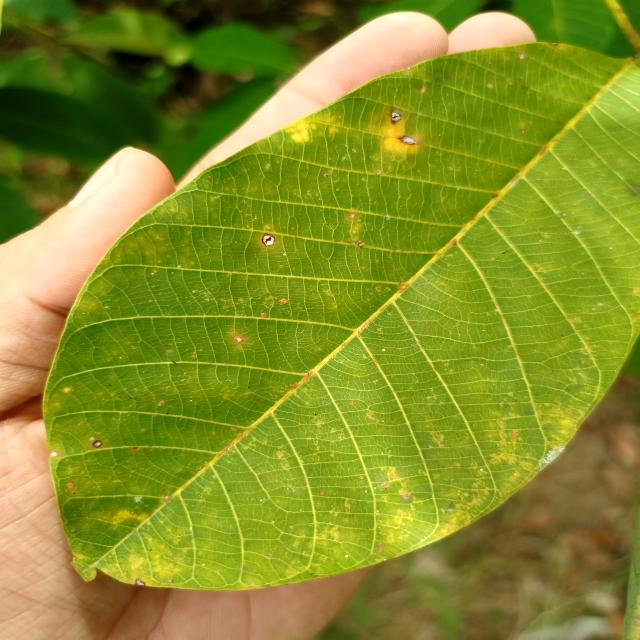Colletotrichum: (262, 234, 275, 246), (391, 112, 402, 122), (92, 440, 103, 448)
